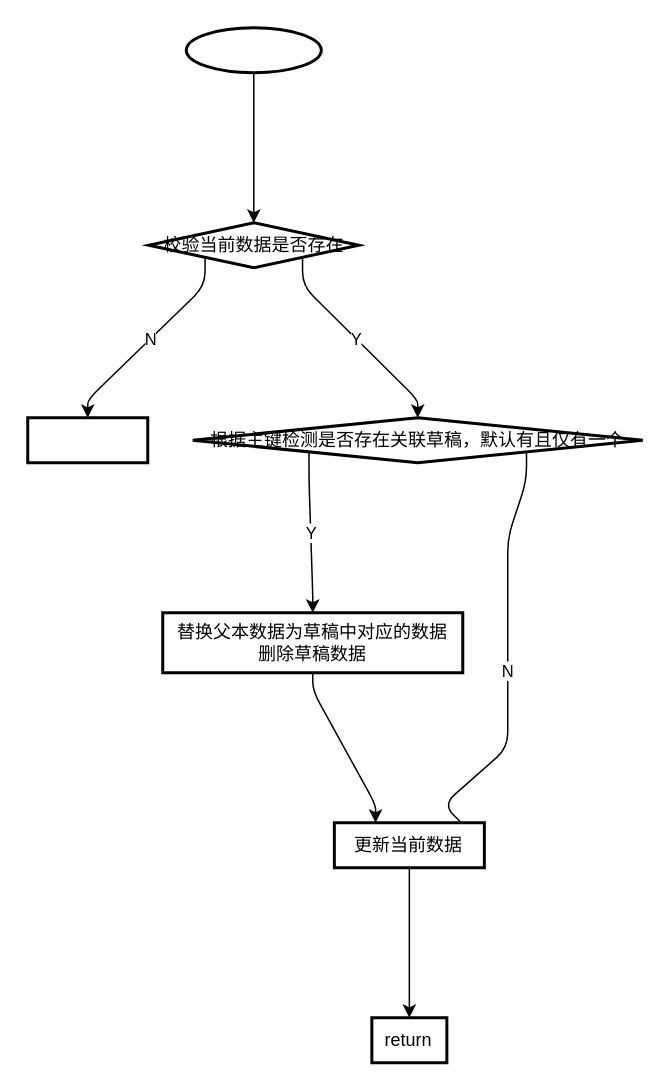
Some shapes in this 669 by 1089 pixel diagram are drawn without their labels. Here are the shapes that lost their labels. From the top down, the box of each, then its label:
(184, 26, 322, 74): release_item
(26, 416, 148, 464): throw error
